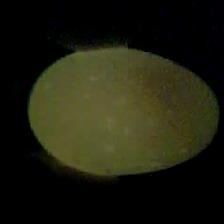infertile: (25, 44, 220, 178)
